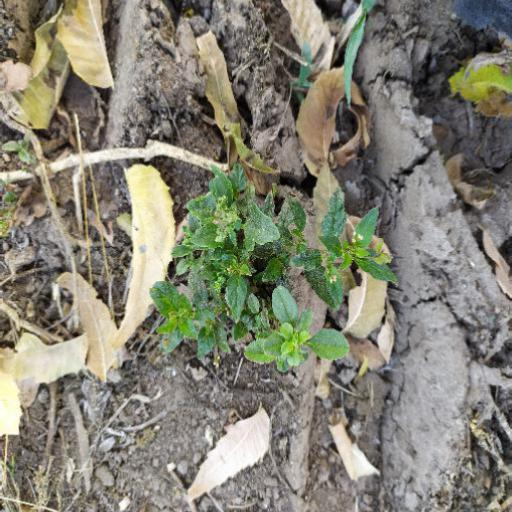weed: (140, 169, 405, 395)
